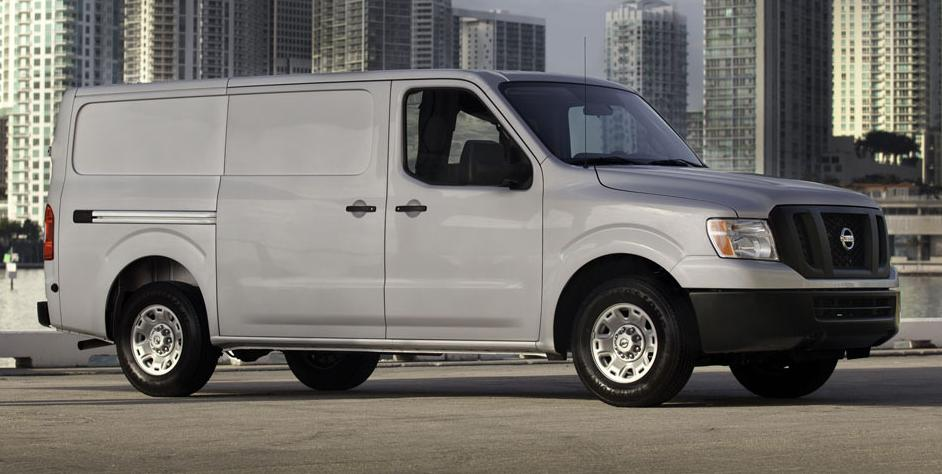front_view: (689, 187, 913, 385)
headlight: (681, 199, 778, 274)
side_glass: (213, 78, 540, 195)
